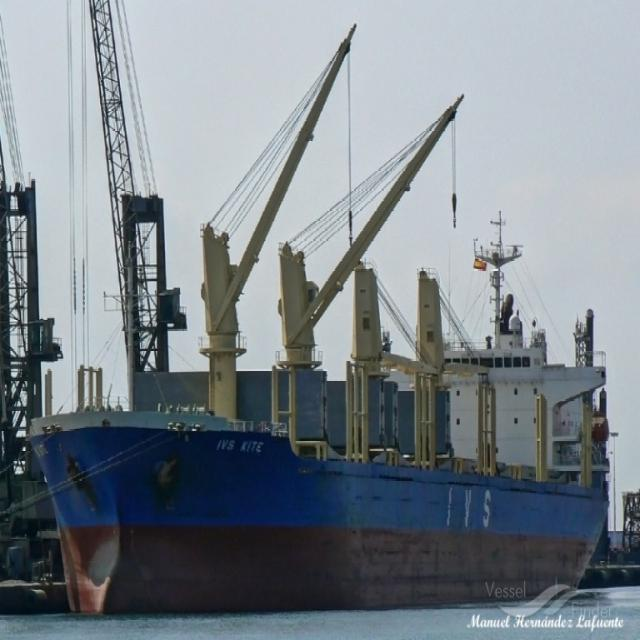OCR: (432, 484, 500, 542), (207, 430, 271, 460)
